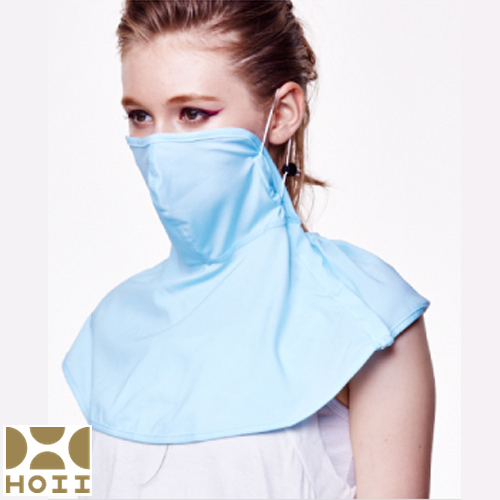face_mask: (121, 29, 265, 230)
